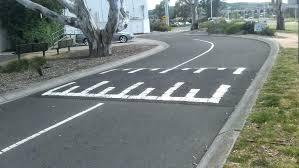Bump: (30, 63, 264, 107)
